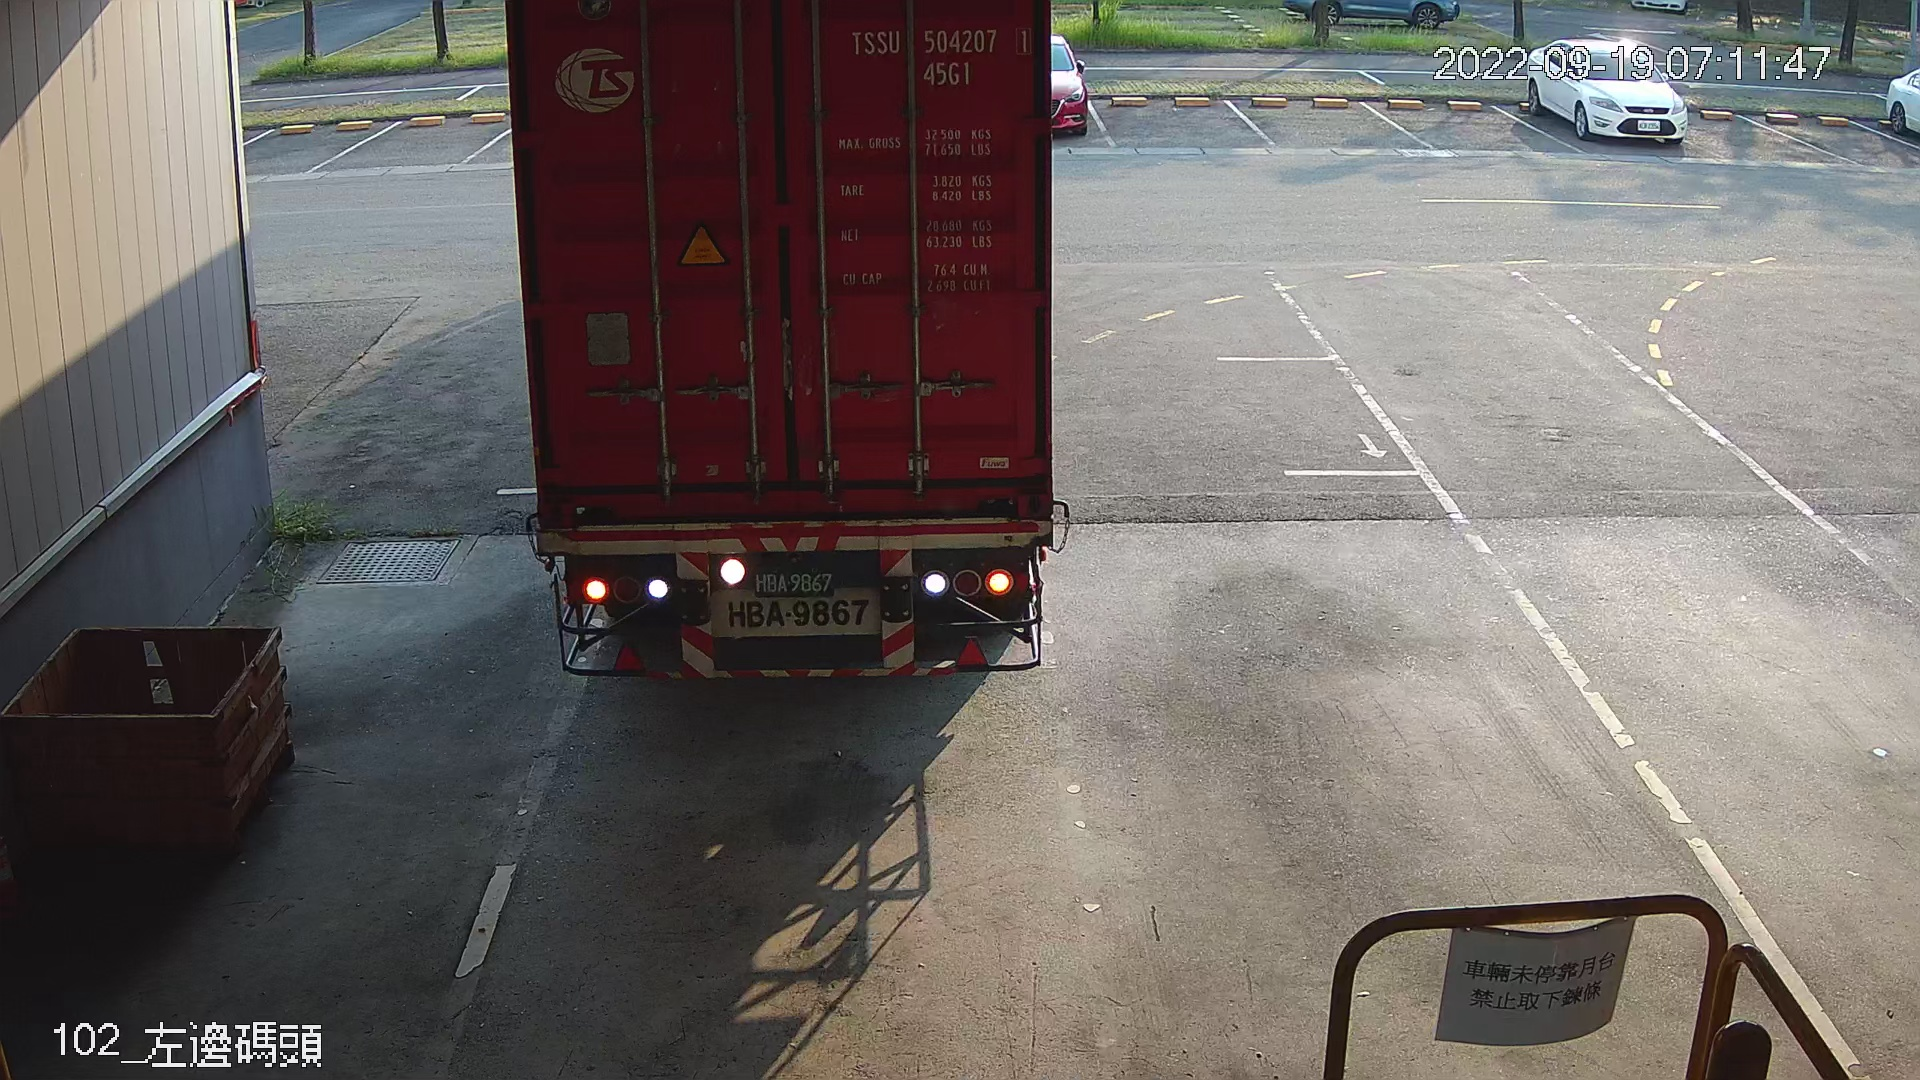container: (843, 20, 1040, 99)
